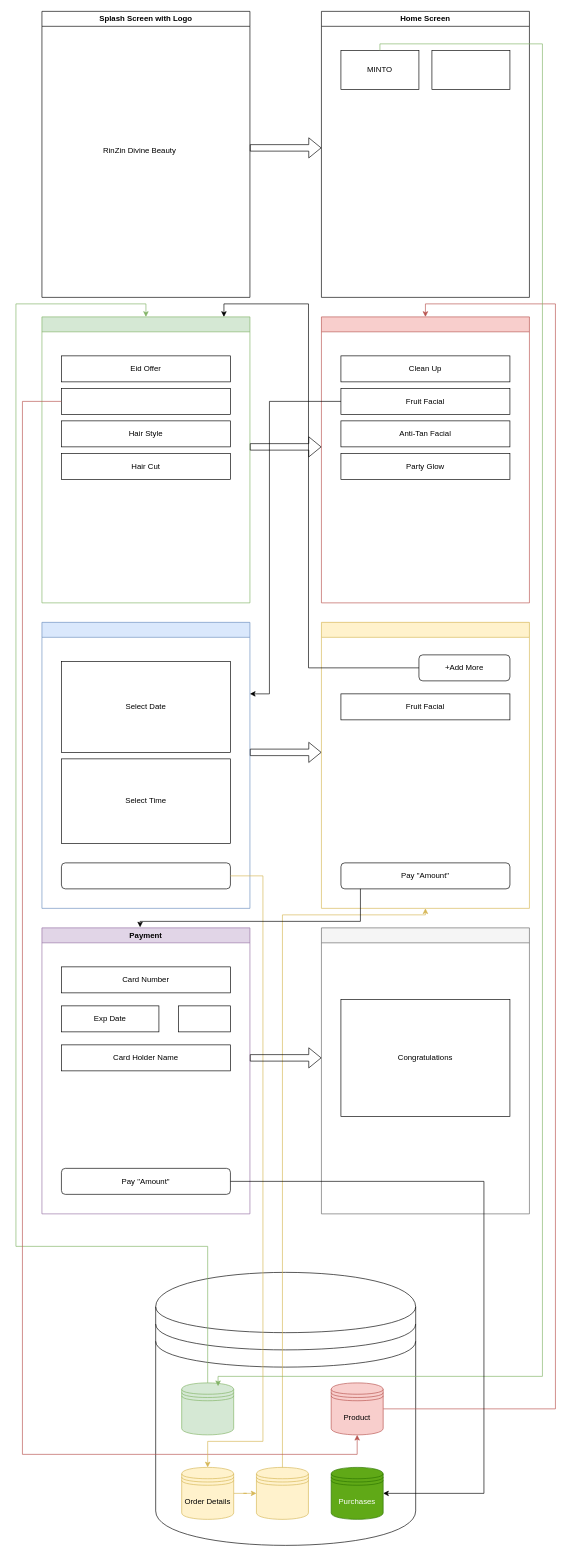
Image size: 572x1557. Some labels were removed from this diagram. The box of each missing label's shape, as (x1, y1, x2, y2) in pixels:
CAMPBELLTOWN: (431, 50, 510, 89)
Cart Items: (321, 622, 529, 908)
Category: (181, 1382, 234, 1435)
Category Page: (41, 316, 250, 603)
Confirm: (61, 862, 230, 889)
Cvc: (178, 1005, 230, 1032)
Date & Time: (41, 622, 250, 908)
Facial: (61, 388, 230, 414)
Product Page: (321, 316, 529, 603)
Product Price: (256, 1467, 308, 1519)
SQL Database: (155, 1272, 416, 1545)
Successful: (321, 927, 529, 1214)
